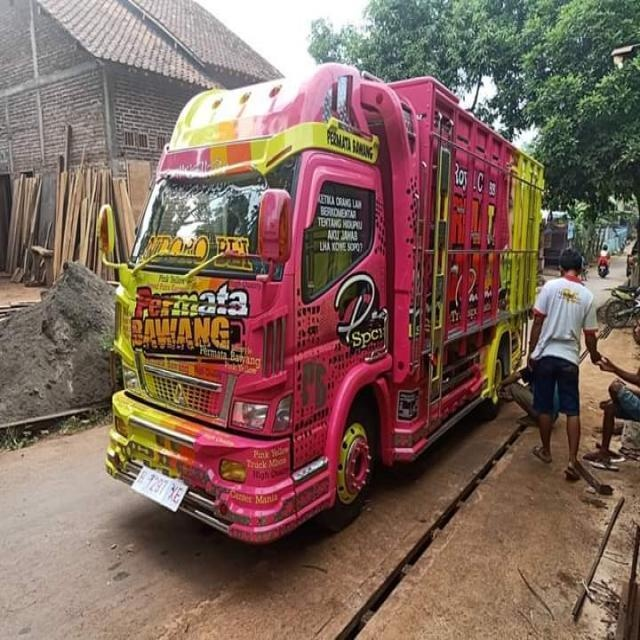Truck: (96, 62, 544, 546)
